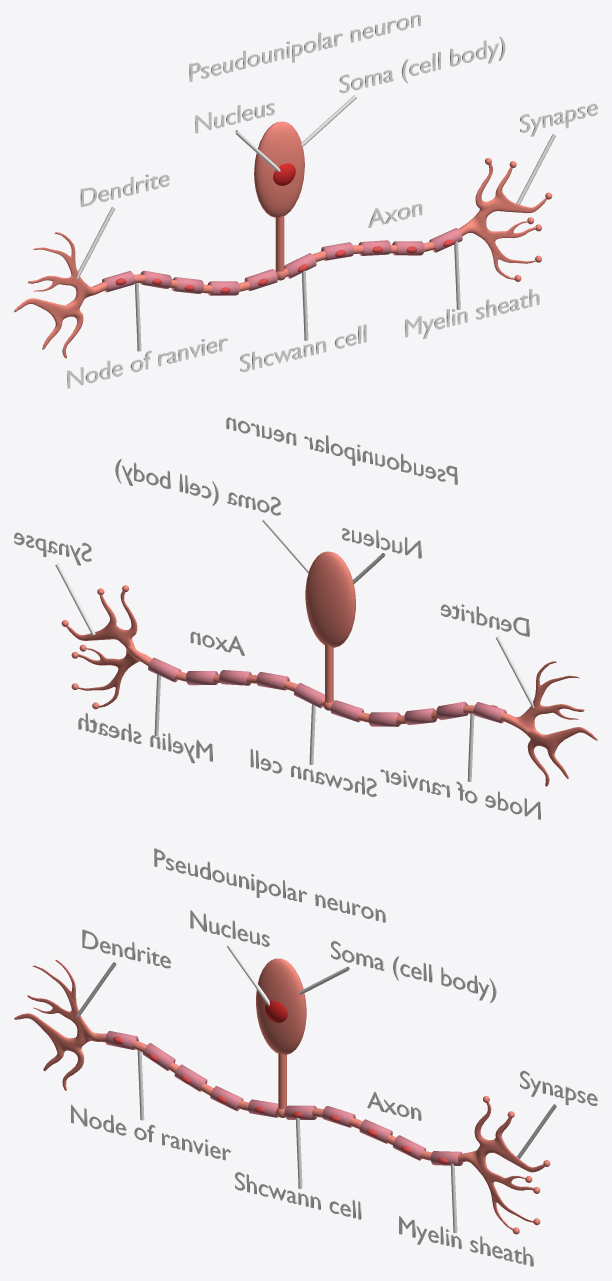
The model's file is sensory-neuron.glb.
3 renders of one model, top to bottom at view 1: azimuth 30°, elevation 25°; view 2: azimuth 150°, elevation 25°; view 3: azimuth 330°, elevation 25°, orthographic.
Visible parts, largest first — view 1: Object_24, Object_4, Object_10, Object_8, Object_6; view 2: Object_24, Object_4, Object_8, Object_10; view 3: Object_24, Object_4, Object_8, Object_10, Object_6.
Boxes of the visible parts, bbox=[...] form: Object_24: bbox=[67, 14, 597, 388]; Object_4: bbox=[14, 158, 552, 358]; Object_10: bbox=[254, 121, 304, 271]; Object_8: bbox=[102, 228, 462, 295]; Object_6: bbox=[115, 239, 453, 293]; Object_24: bbox=[14, 417, 540, 819]; Object_4: bbox=[61, 585, 597, 786]; Object_8: bbox=[148, 657, 506, 726]; Object_10: bbox=[305, 551, 355, 702]; Object_24: bbox=[71, 848, 597, 1266]; Object_4: bbox=[14, 959, 550, 1234]; Object_8: bbox=[105, 1031, 463, 1165]; Object_10: bbox=[256, 958, 306, 1109]; Object_6: bbox=[113, 1036, 447, 1164].
Bounding box in the file's own units: 23.57 × 13.35 × 1.72.
